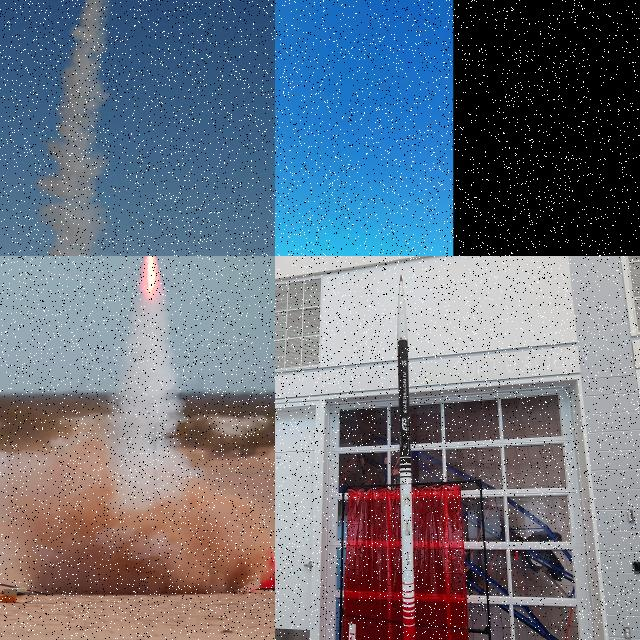Rocket: (397, 274, 416, 640)
